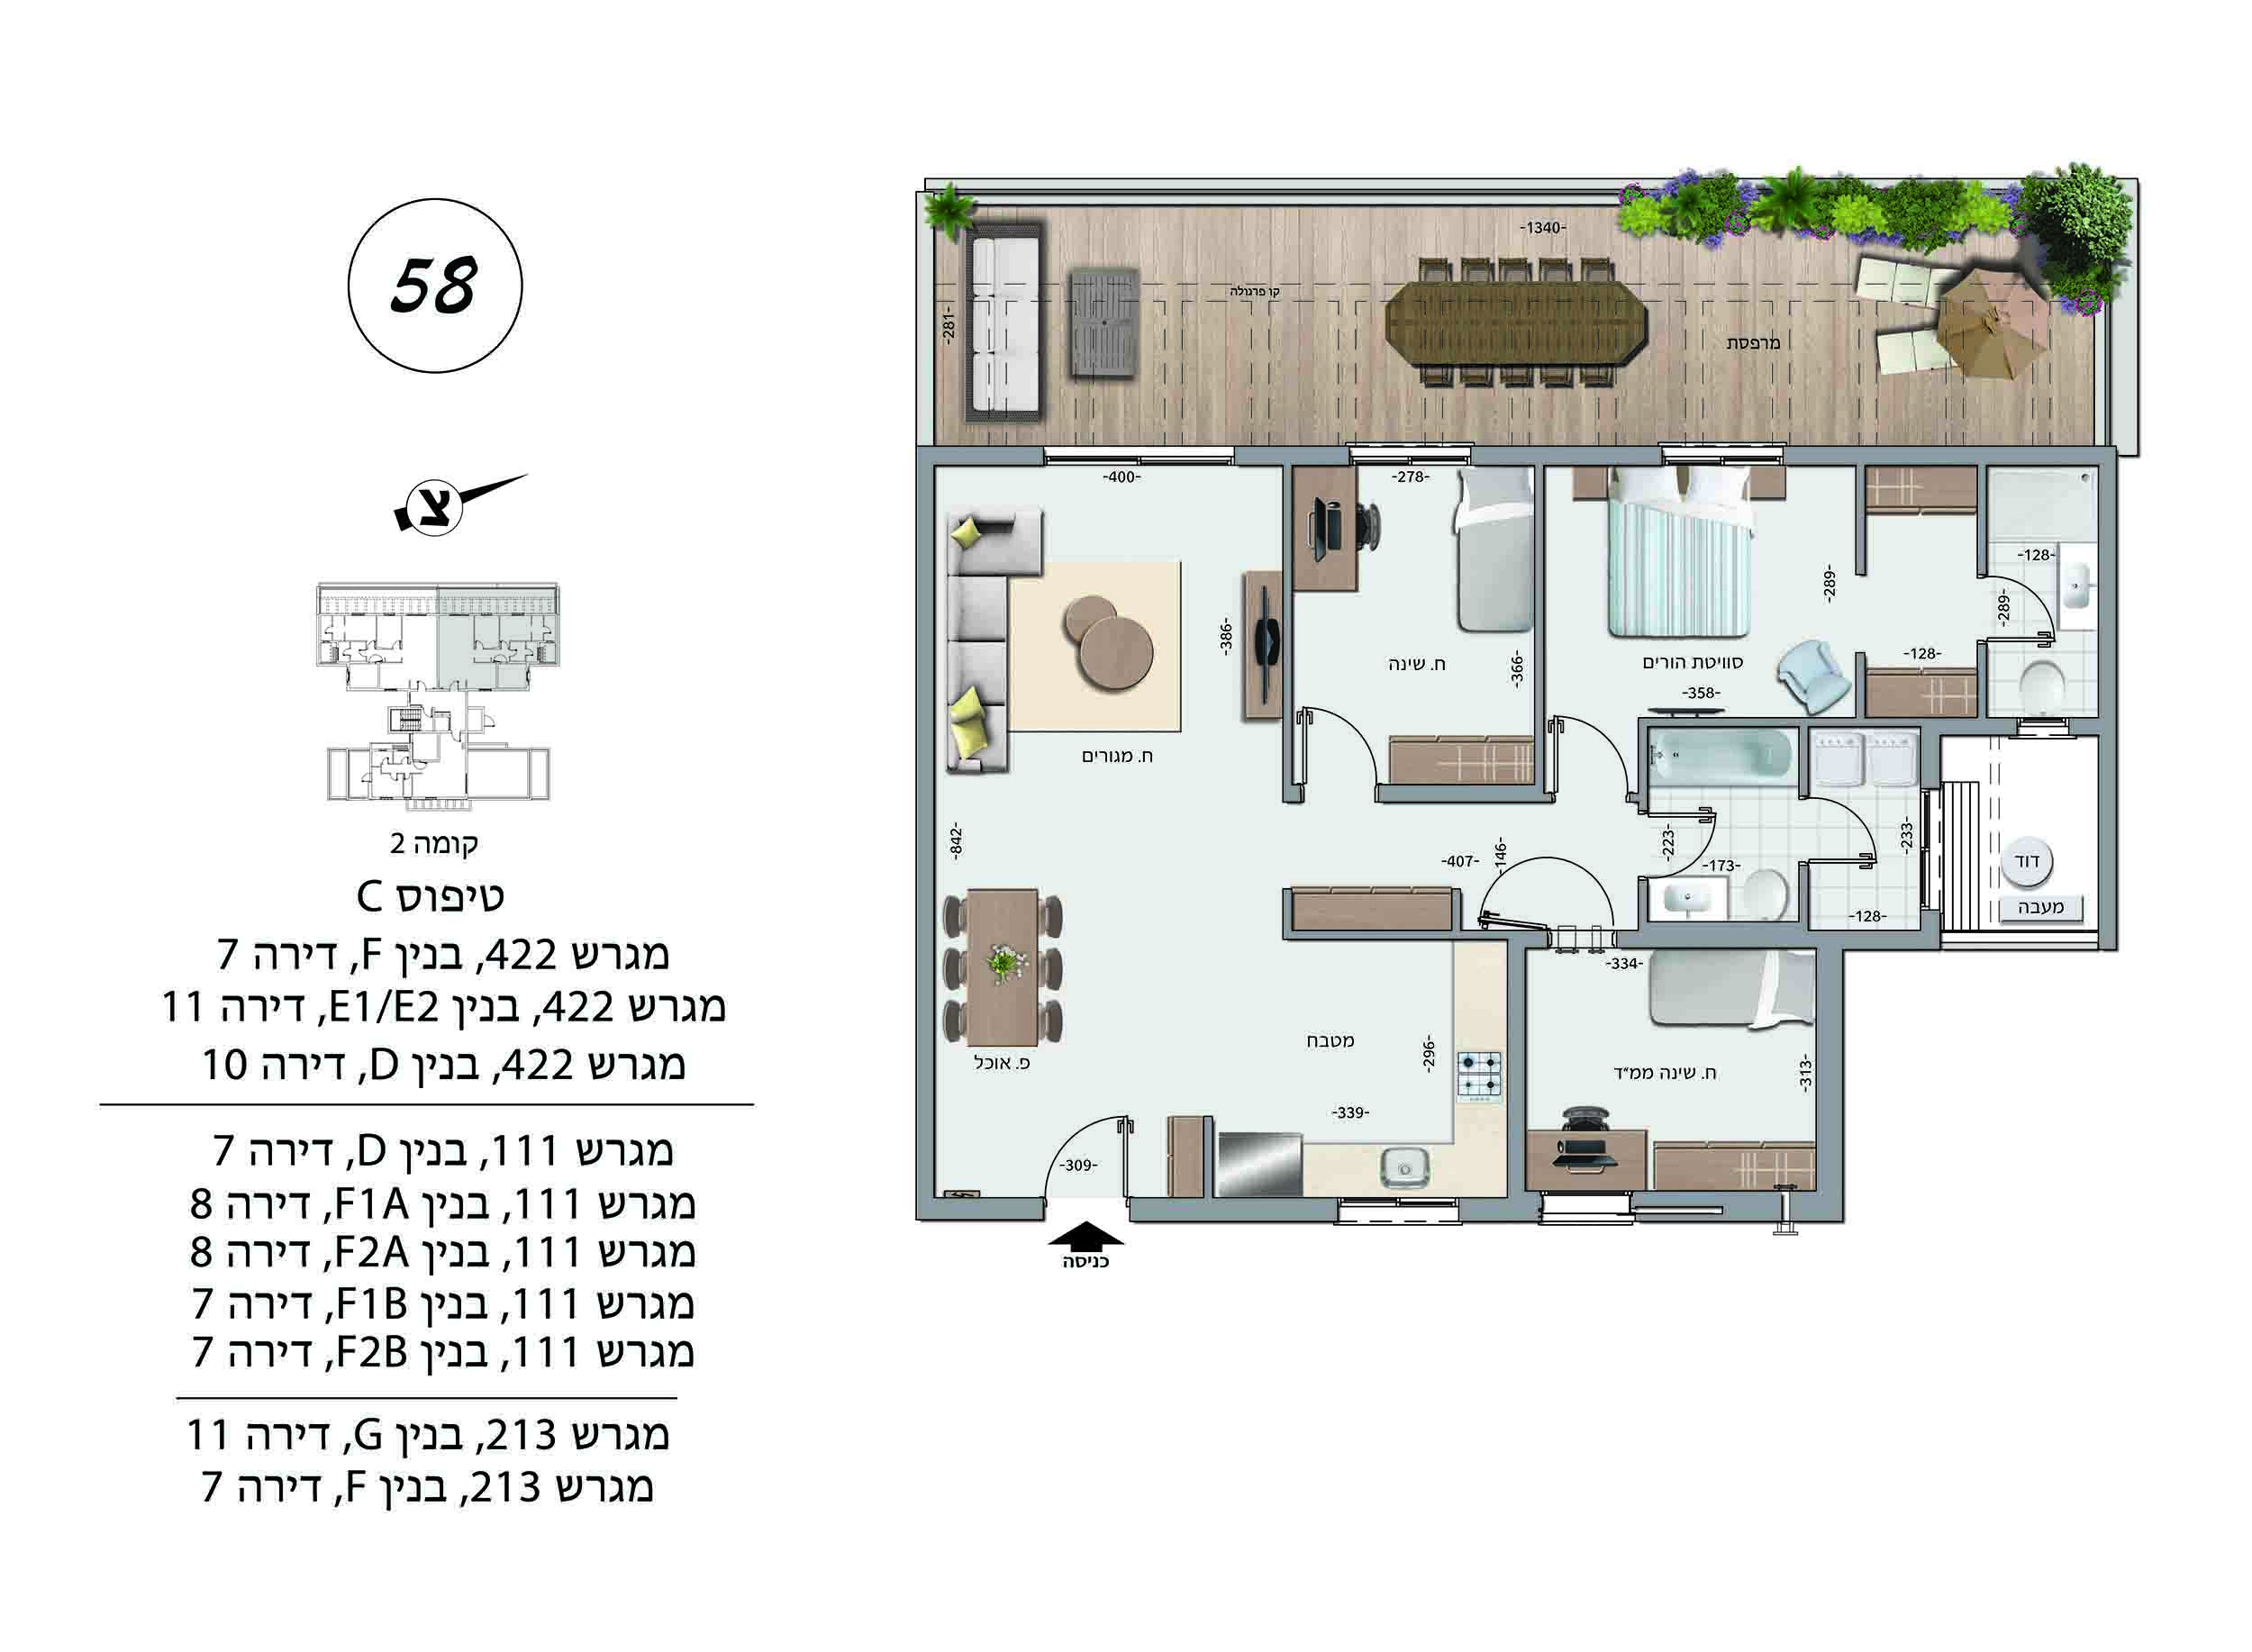door: (1044, 1112, 1138, 1196), (1297, 689, 1385, 778), (1546, 694, 1631, 773), (1817, 788, 1878, 881), (2011, 573, 2058, 656), (1682, 799, 1720, 862), (1470, 885, 1514, 927)
wall: (914, 446, 935, 1224), (916, 448, 934, 1215), (2100, 446, 2119, 951), (1817, 932, 1843, 1225), (1790, 444, 2114, 465), (1507, 932, 1526, 1218), (1470, 444, 1663, 467), (1129, 1199, 1336, 1220), (1532, 467, 1544, 801), (1621, 930, 1811, 949), (918, 1196, 1040, 1222), (916, 1197, 1044, 1218), (1460, 1199, 1540, 1218), (1853, 465, 1864, 572), (1979, 463, 1986, 570)
window: (1339, 1199, 1458, 1225), (1046, 448, 1140, 475), (1546, 1194, 1631, 1220), (1143, 448, 1236, 467), (1350, 444, 1411, 465), (1409, 449, 1469, 463)
